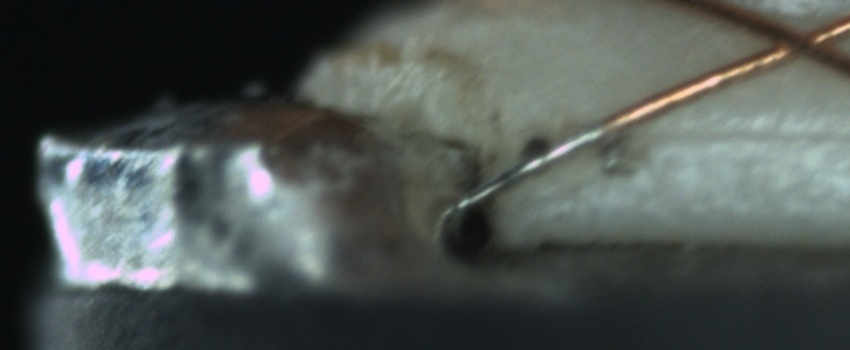CL: (748, 7, 842, 68)
DL: (638, 102, 845, 162)
TS: (458, 123, 607, 213)
TTCW: (449, 104, 635, 213)
